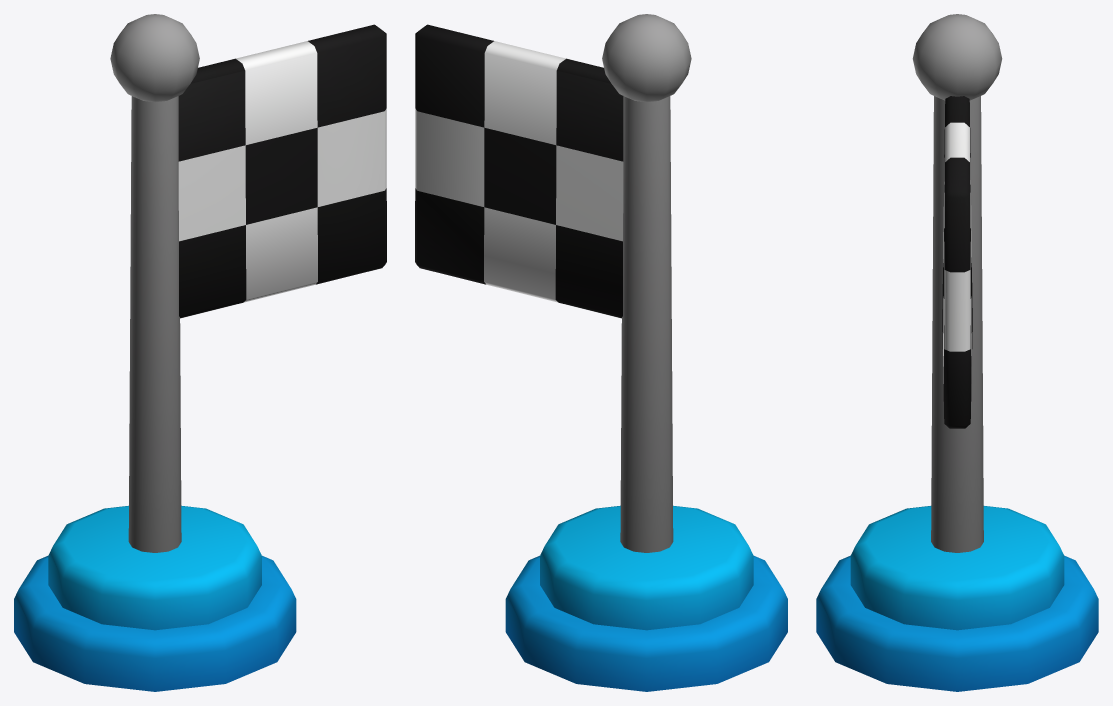
File: Flag.fbx
The picture shows the model from 3 angles, left to right: view 1: azimuth 30°, elevation 25°; view 2: azimuth 150°, elevation 25°; view 3: azimuth 270°, elevation 25°; orthographic projection.
Parts seen in each view (by area): view 1: Prop_Flag_03; view 2: Prop_Flag_03; view 3: Prop_Flag_03.
Part boxes in pixels (<box>): Prop_Flag_03: <box>14,14,386,691</box>; Prop_Flag_03: <box>415,14,787,691</box>; Prop_Flag_03: <box>816,14,1098,691</box>.
Size of the model in its own units: 67.73 by 114 by 47.27.
Materials: 1 (1 with a texture image).
